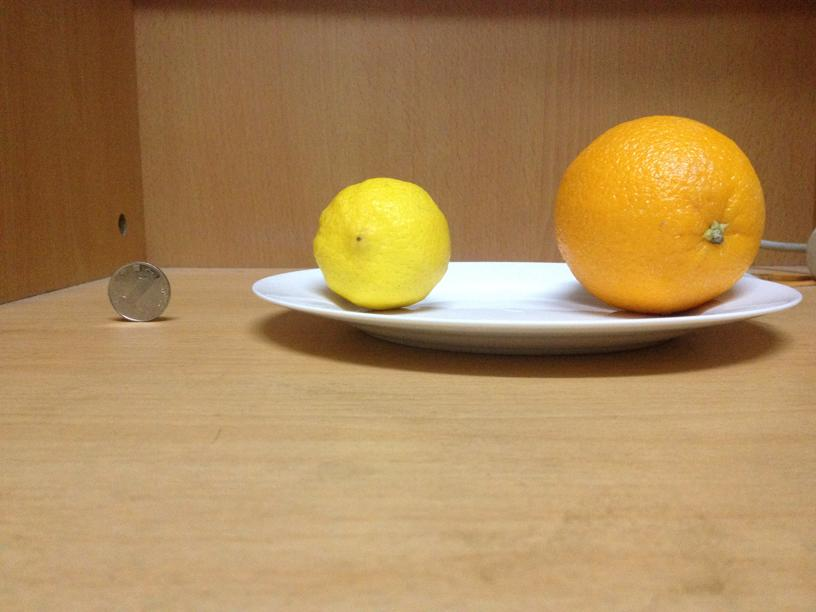coin: (105, 261, 171, 321)
lemon: (312, 172, 450, 306)
orange: (557, 111, 765, 310)
